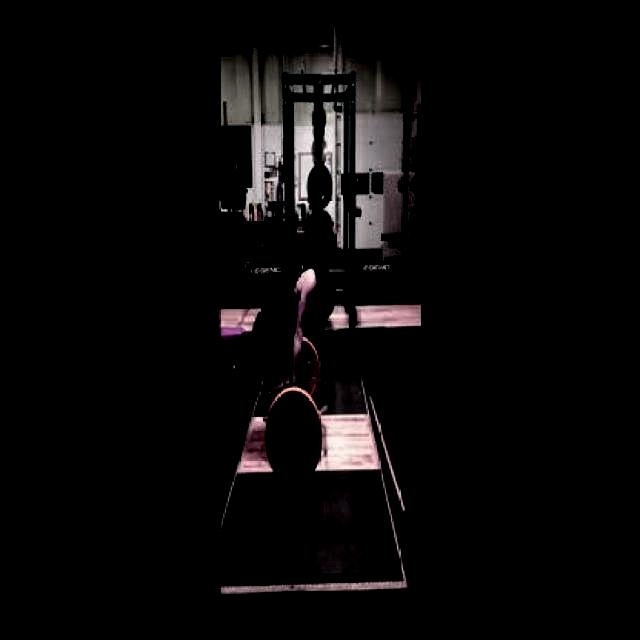barbell: (262, 387, 327, 494)
